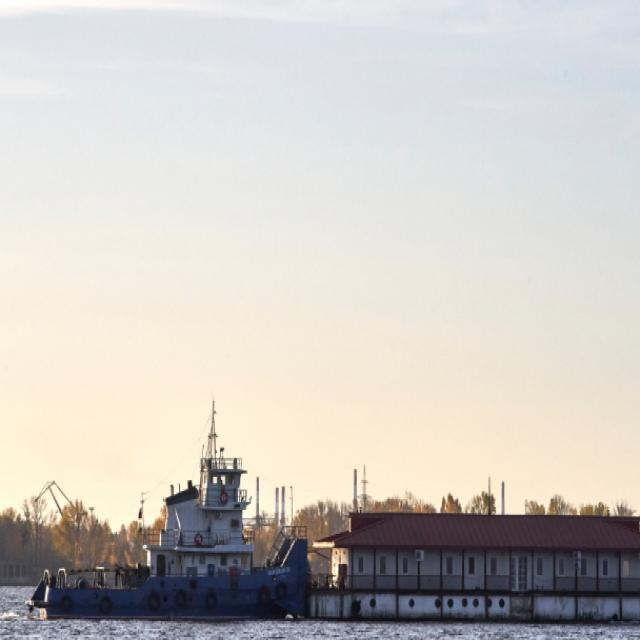tugboat: (24, 428, 318, 640)
